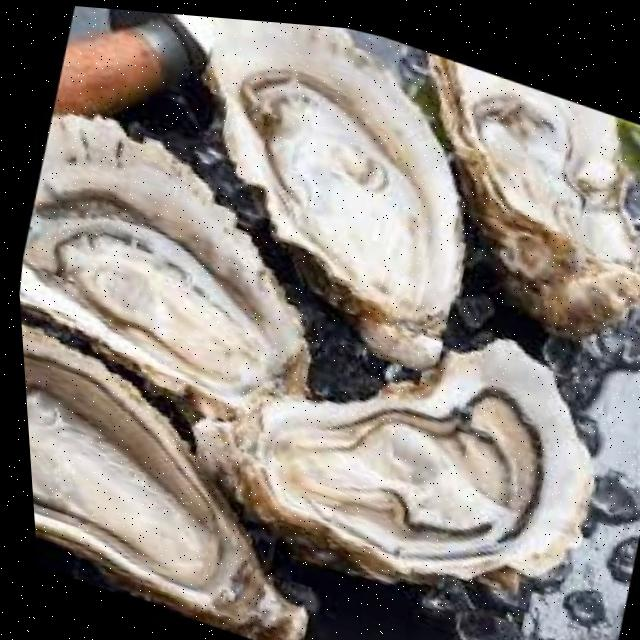Oyster-Open: (186, 15, 465, 370), (196, 340, 592, 584), (22, 325, 308, 640), (20, 116, 310, 420), (430, 59, 640, 336)
